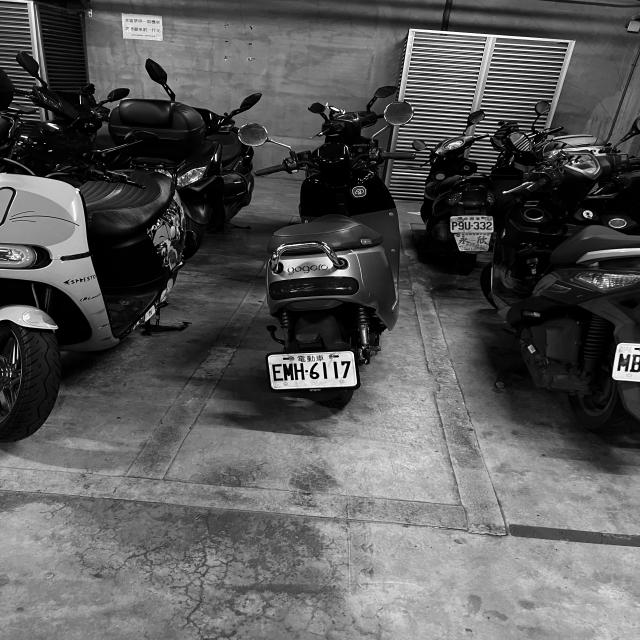-: (304, 368, 308, 374), (471, 224, 473, 227)
1: (321, 362, 329, 379), (332, 361, 339, 379)
2: (487, 222, 492, 230)
3: (480, 222, 486, 230), (474, 222, 479, 230)
6: (309, 362, 321, 380)
7: (341, 361, 351, 378)
9: (458, 222, 464, 230)
E: (272, 363, 284, 381)
H: (293, 362, 305, 380)
M: (618, 352, 630, 372), (282, 364, 294, 381)
P: (451, 222, 457, 230)
U: (464, 222, 470, 230)
plate: (270, 355, 354, 387), (451, 216, 492, 232)
